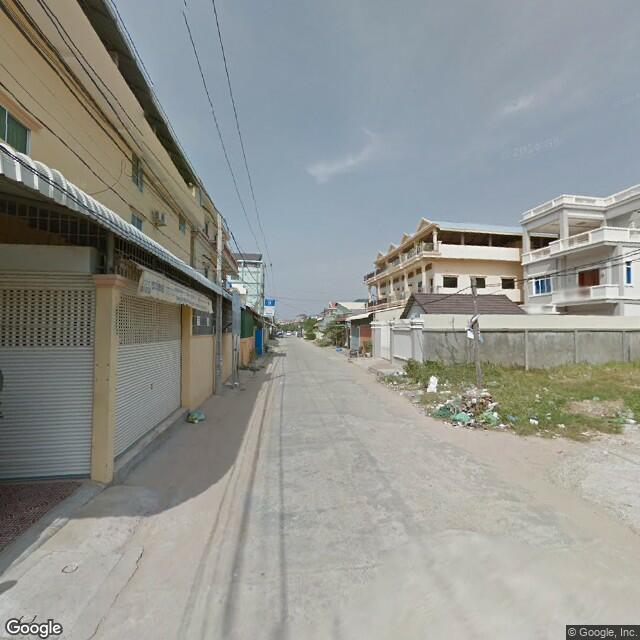litter: (430, 388, 509, 433), (424, 373, 441, 395), (577, 427, 604, 440), (185, 408, 206, 422), (525, 414, 539, 424)
